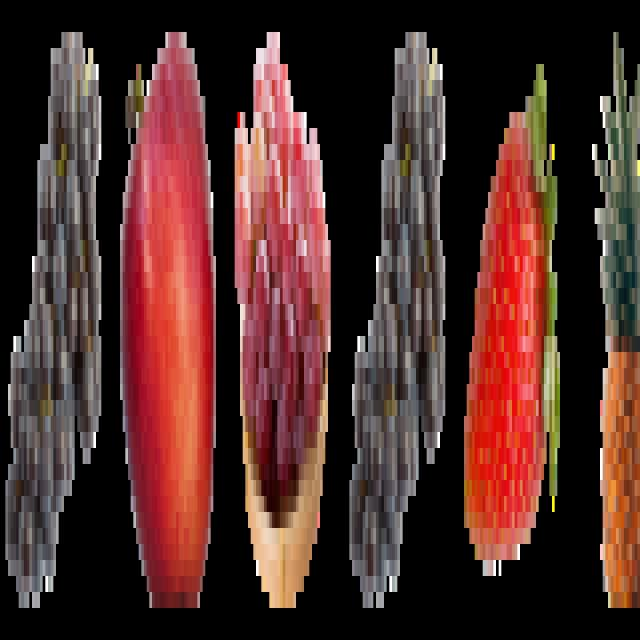apple: (116, 16, 218, 629)
grape: (343, 9, 452, 624), (230, 9, 334, 620), (3, 12, 105, 618)
strawberry: (462, 16, 566, 612)
